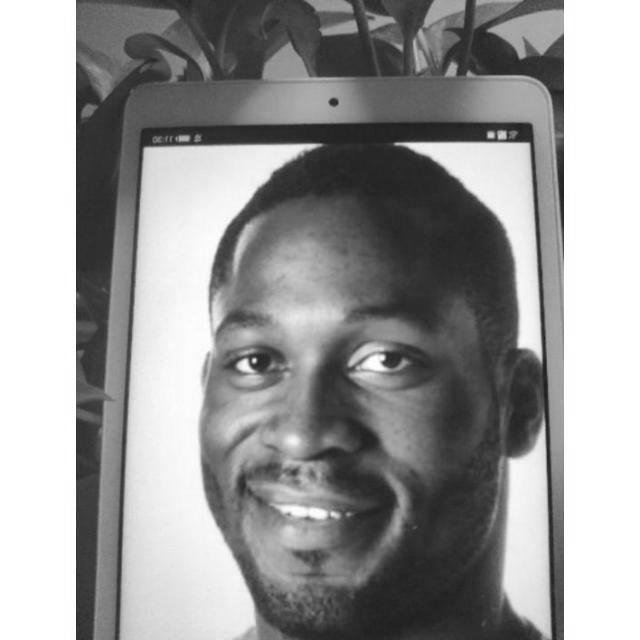fake: (92, 72, 562, 640)
